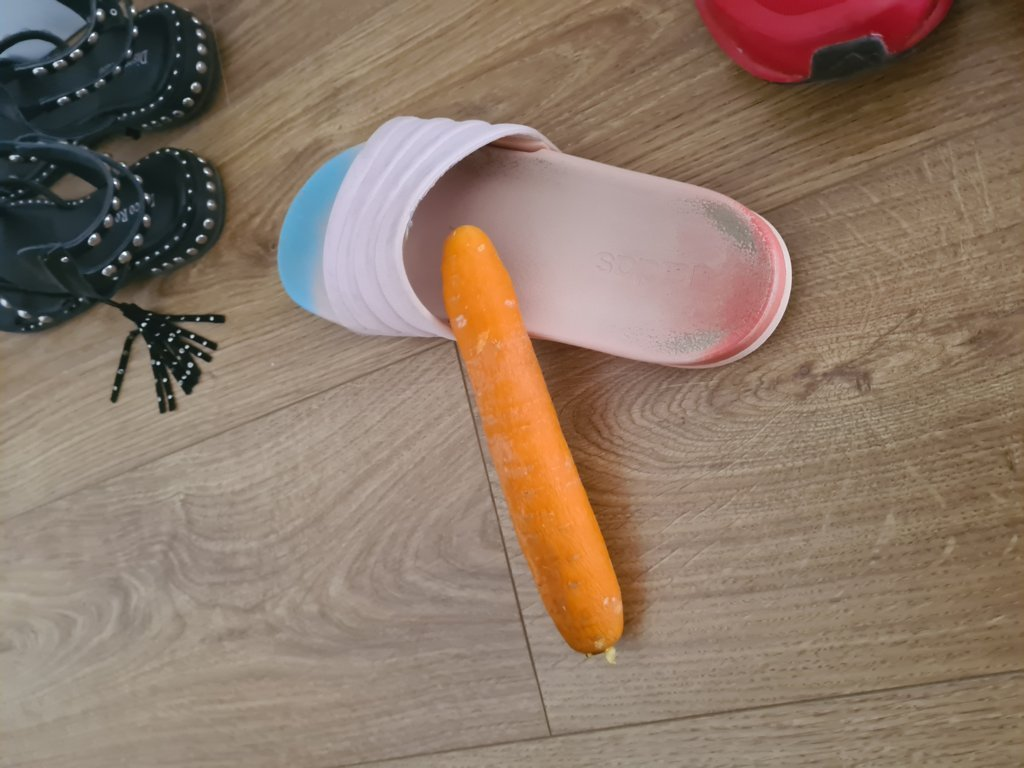carrot: (442, 219, 627, 653)
